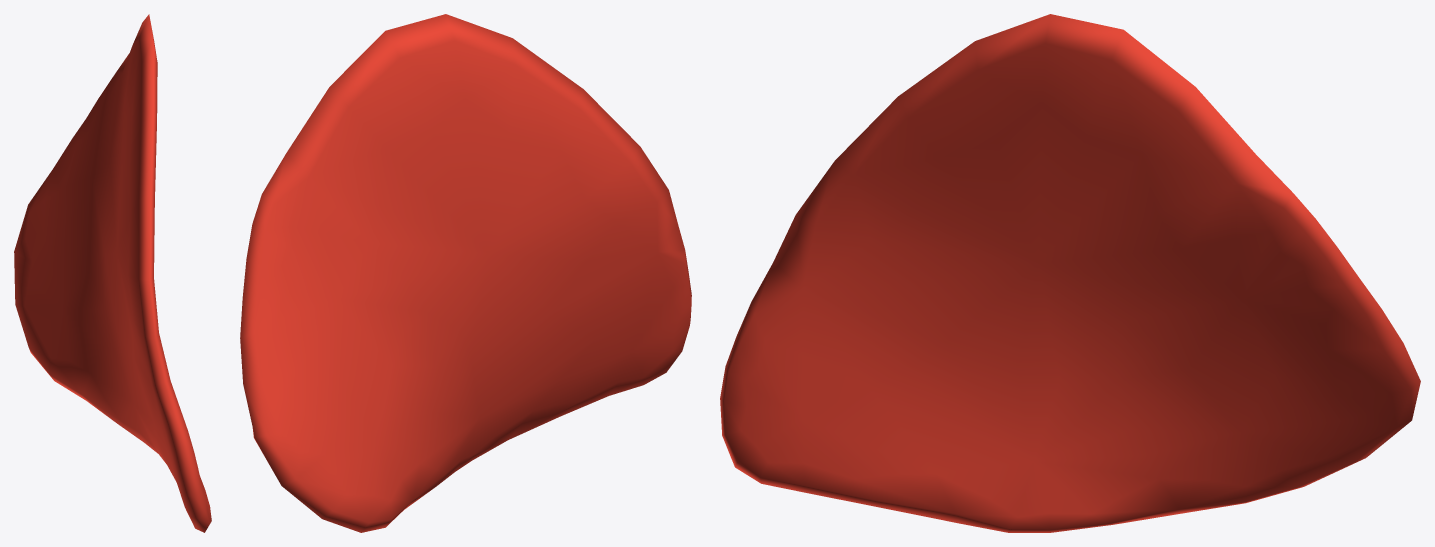
File: Popliteus_groove_right.glb
The picture shows the model from 3 angles, left to right: view 1: azimuth 30°, elevation 25°; view 2: azimuth 150°, elevation 25°; view 3: azimuth 270°, elevation 25°; orthographic projection. The views are drawn at different scales.
Visible parts, largest first — view 1: Popliteus_muscle_in_the_groove_for_popliteus_muscle.r_Genera; view 2: Popliteus_muscle_in_the_groove_for_popliteus_muscle.r_Genera; view 3: Popliteus_muscle_in_the_groove_for_popliteus_muscle.r_Genera.
Boxes of the visible parts, box(x1,y1,x2,y2) form: Popliteus_muscle_in_the_groove_for_popliteus_muscle.r_Genera: box(14, 14, 211, 532); Popliteus_muscle_in_the_groove_for_popliteus_muscle.r_Genera: box(240, 14, 691, 532); Popliteus_muscle_in_the_groove_for_popliteus_muscle.r_Genera: box(720, 14, 1420, 532).
Bounding box in the file's own units: 0.00408 × 0.00939 × 0.0115.
